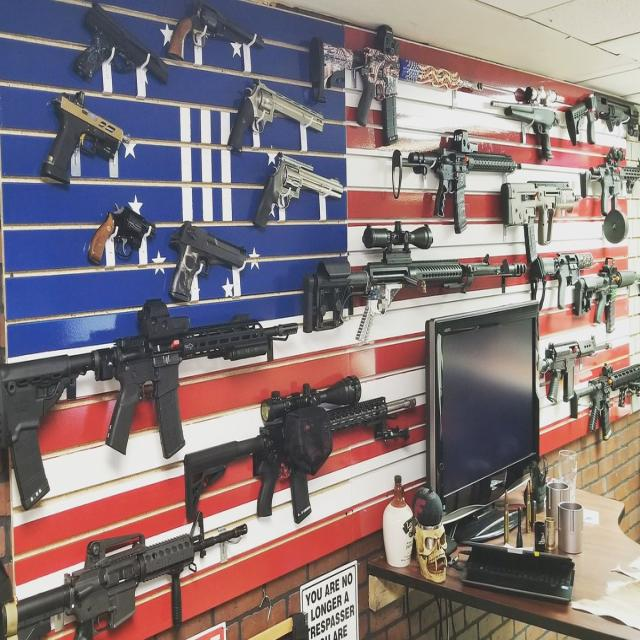HandGun: (37, 90, 133, 189), (70, 0, 167, 83), (253, 153, 344, 229), (227, 83, 324, 153), (170, 222, 247, 301), (166, 4, 258, 63), (88, 200, 155, 266)
Rifle: (0, 298, 281, 511), (185, 377, 423, 524), (15, 512, 241, 640), (303, 223, 525, 342), (310, 25, 460, 146), (392, 130, 521, 234), (487, 88, 559, 162), (570, 364, 640, 437), (580, 162, 640, 245), (538, 337, 610, 404), (507, 183, 575, 246), (573, 267, 640, 325), (540, 253, 594, 310)
ShotGun: (566, 93, 632, 147)
